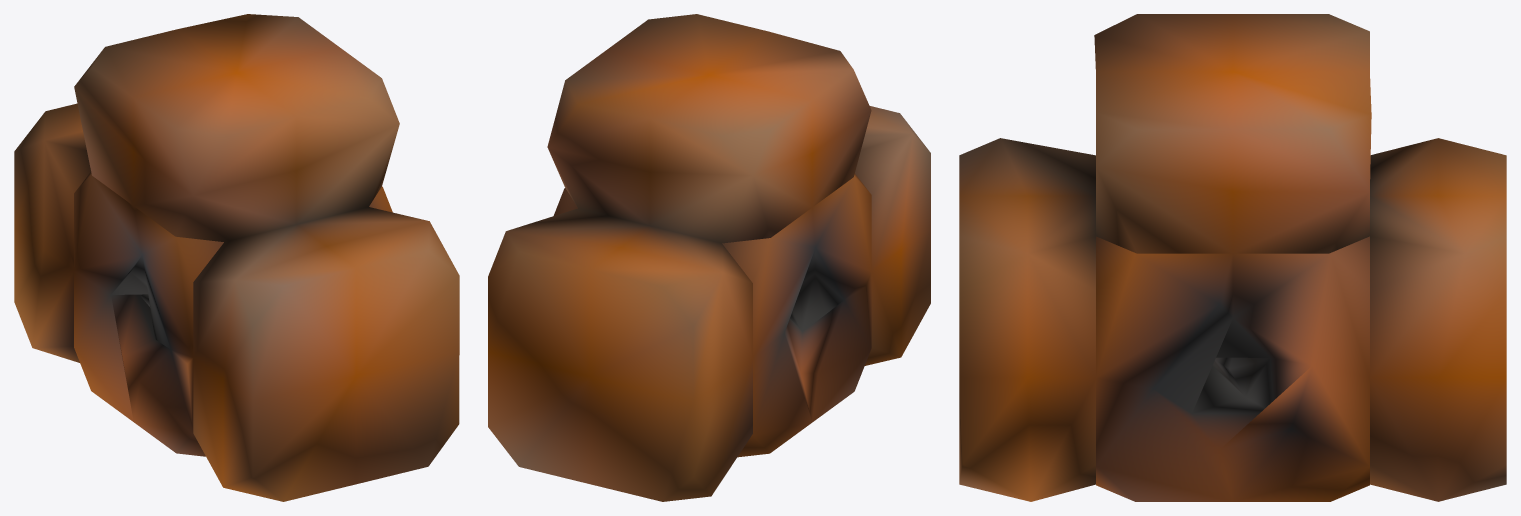
File: battery_box_lod4.glb
3 renders of one model, left to right at view 1: azimuth 30°, elevation 25°; view 2: azimuth 150°, elevation 25°; view 3: azimuth 270°, elevation 25°, orthographic. The views are drawn at different scales.
Visible parts, largest first — view 1: battery_box; view 2: battery_box; view 3: battery_box.
Part boxes in pixels (bbox=[...]): battery_box: bbox=[14, 14, 459, 501]; battery_box: bbox=[488, 14, 930, 501]; battery_box: bbox=[959, 14, 1506, 501].
Size of the model in its own units: 2.01 by 3.01 by 4.
